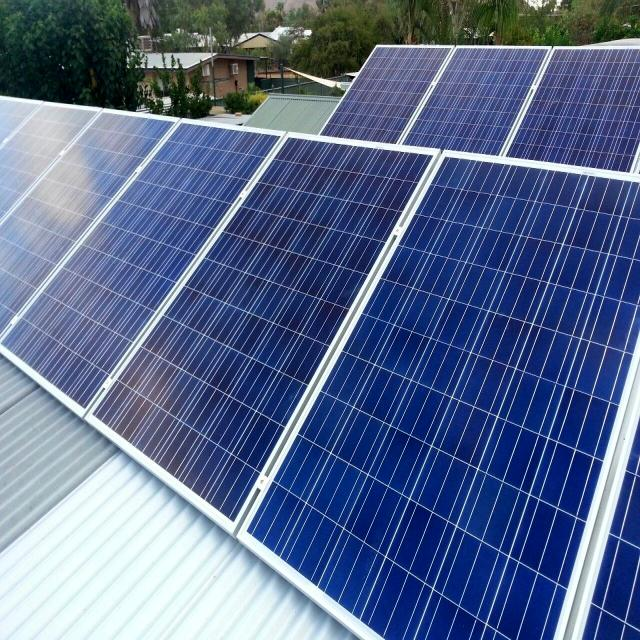crack: (246, 121, 640, 640), (101, 123, 472, 601), (11, 80, 306, 460), (382, 20, 549, 166), (536, 40, 640, 228), (343, 34, 452, 170)
